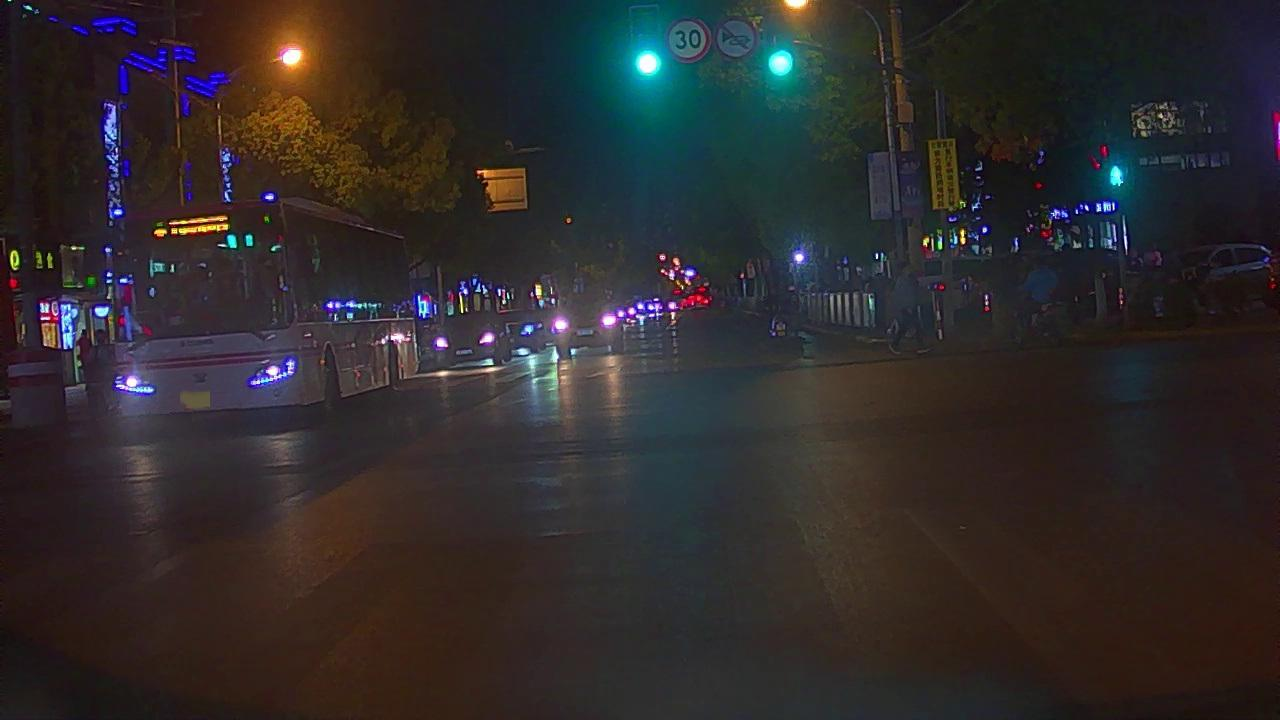traffic_light: (621, 42, 671, 86), (759, 46, 804, 84)
